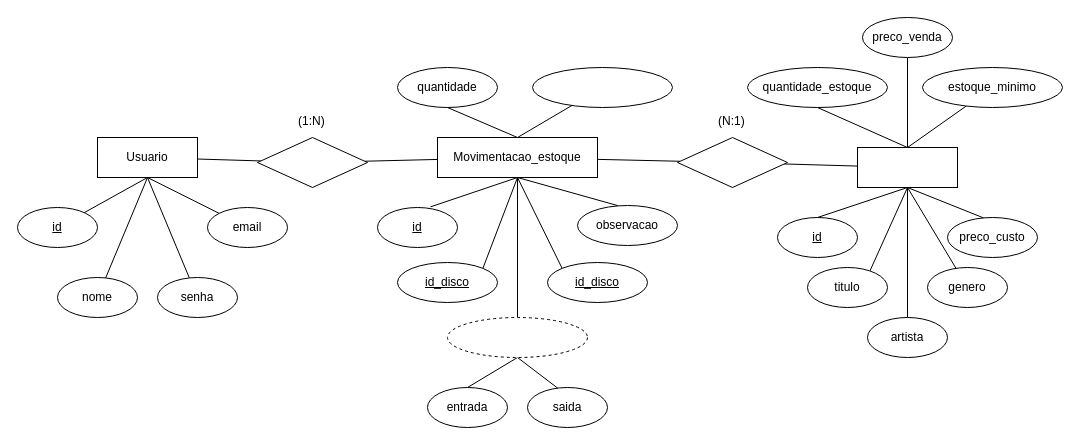
This 1080x445 diagram has some shape labels left out. The box of each missing label's shape, as (x1, y1, x2, y2) in pixels:
data_movimentacao: (532, 66, 672, 108)
Disco: (856, 146, 958, 188)
movimenta: (256, 136, 368, 188)
possui: (676, 136, 788, 188)
tipo_movimentacao: (446, 316, 588, 358)
